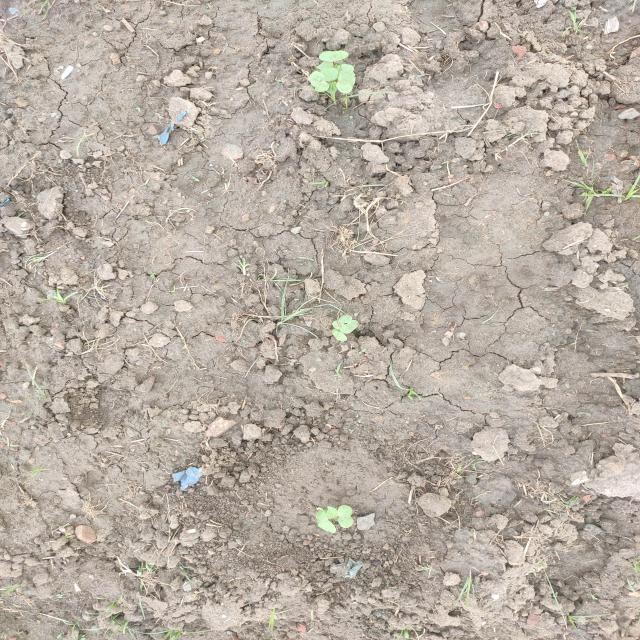seedling_s4: (315, 509, 336, 534), (336, 69, 355, 94), (309, 71, 329, 92), (337, 505, 353, 528), (319, 50, 349, 62), (340, 320, 359, 334), (321, 68, 338, 82), (332, 328, 347, 341), (316, 61, 334, 71), (338, 315, 352, 327), (338, 64, 354, 74), (326, 81, 338, 94), (326, 506, 338, 519), (333, 320, 341, 330)
